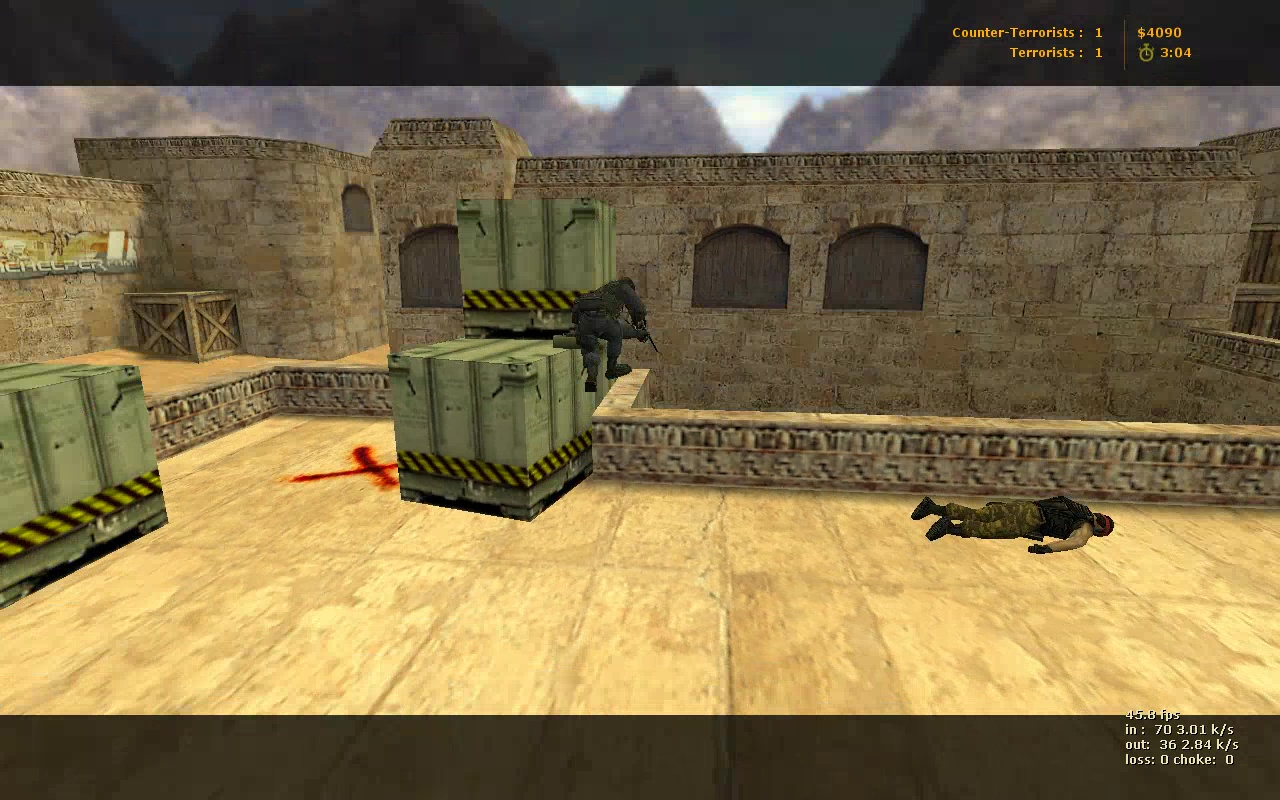ct: (571, 275, 653, 386)
dead: (911, 490, 1114, 555)
